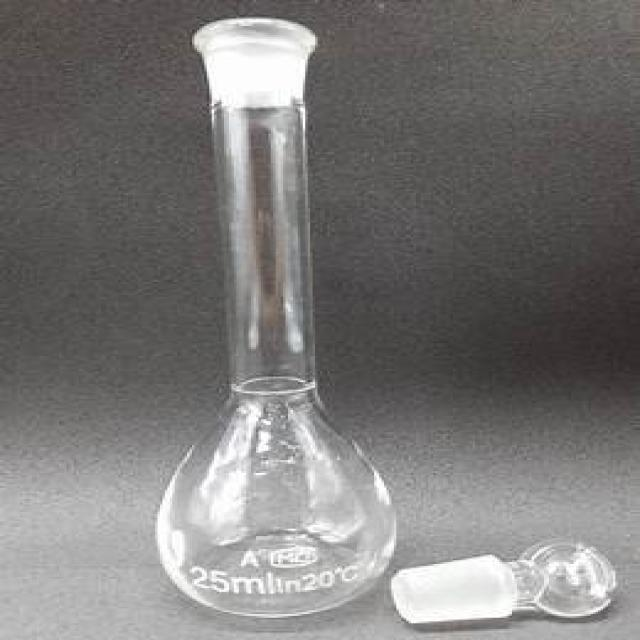Volumetric flask: (142, 28, 405, 620)
